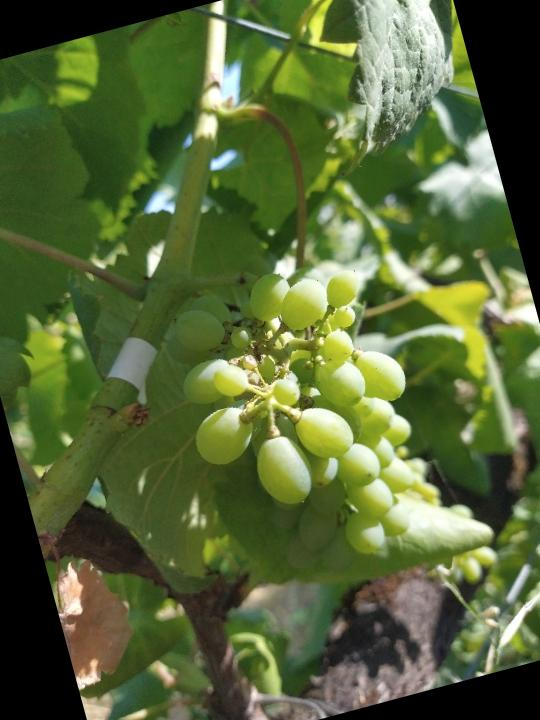grape: (144, 236, 452, 604)
